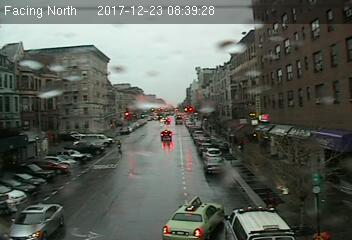car: (162, 196, 225, 240), (5, 202, 69, 240), (204, 156, 224, 174), (159, 129, 173, 141)
police: (223, 206, 298, 240)
